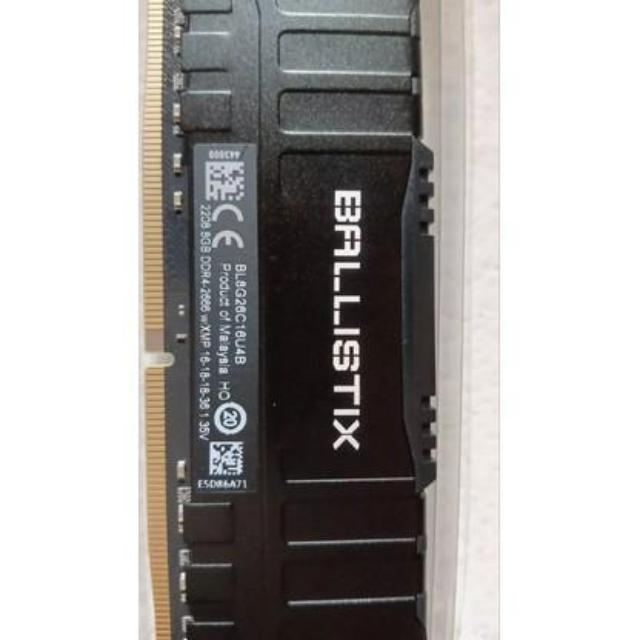RAM: (136, 0, 430, 640)
